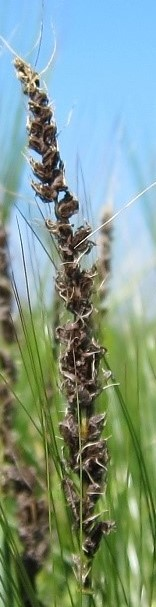Wheat Loose Smut: (7, 54, 129, 548)
